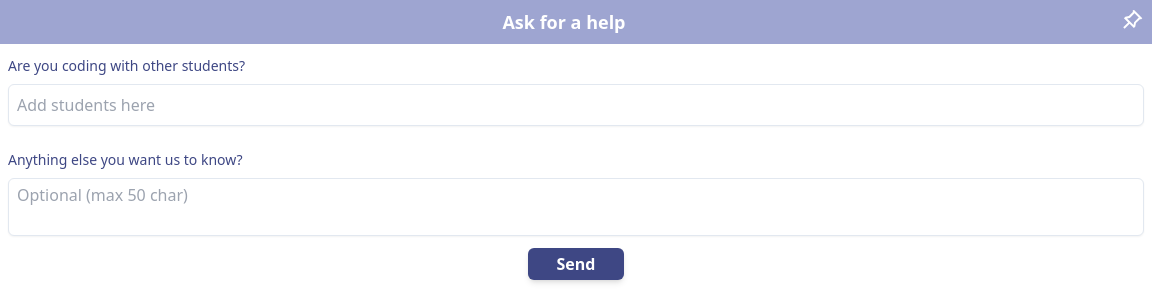
Test: filters students based on input
Type "Isaiah" into the field with placeholder "Add students here".
click(576, 105); type("Isaiah")  # box top-left (8, 84), bottom-right (1144, 126)
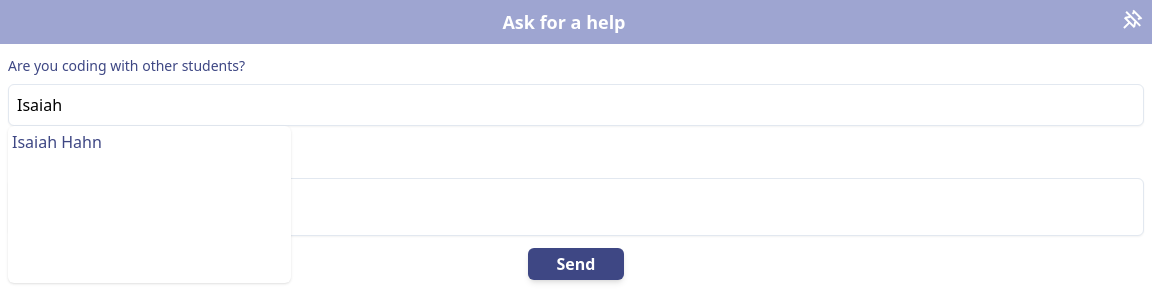
Expected: the text "Isaiah Hahn" is shown, top-left (8, 126), bottom-right (291, 159)
